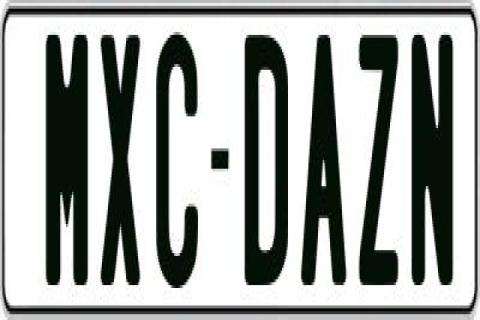A: (302, 35, 348, 303)
C: (152, 29, 194, 294)
D: (243, 35, 293, 285)
M: (42, 29, 92, 285)
N: (410, 35, 456, 285)
X: (98, 26, 142, 276)
Z: (359, 35, 399, 291)
